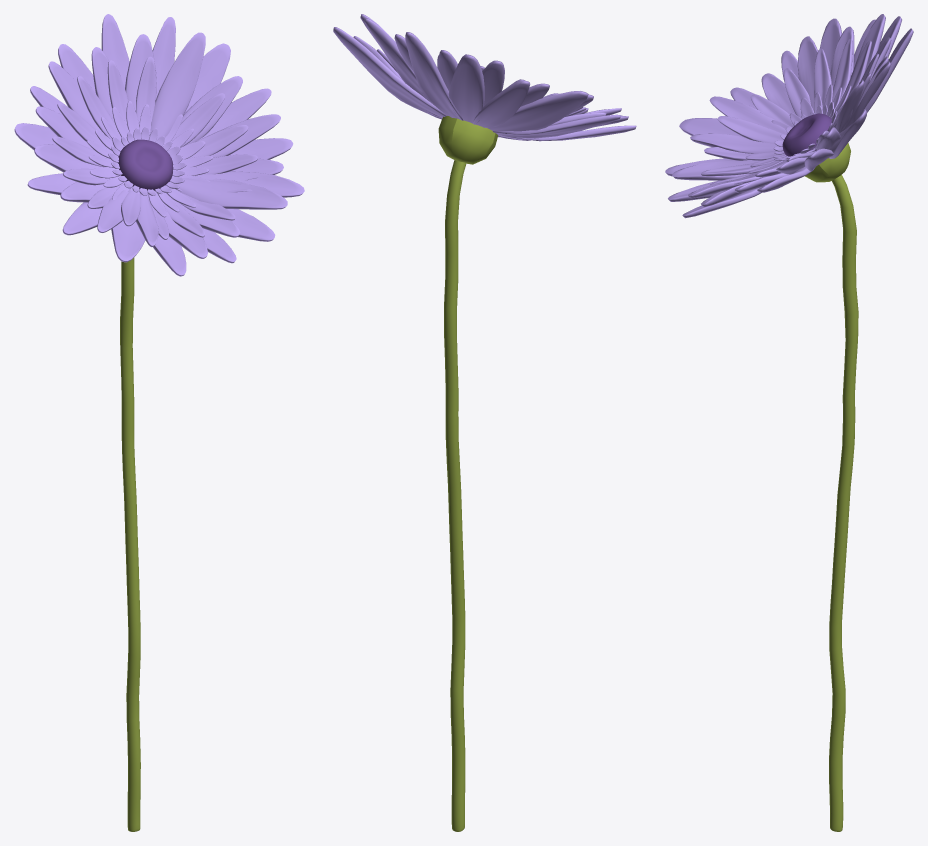
File: Purple_Gerbera_Model.fbx
3 renders of one model, left to right at view 1: azimuth 30°, elevation 25°; view 2: azimuth 150°, elevation 25°; view 3: azimuth 270°, elevation 25°, orthographic. The views are drawn at different scales.
Visible parts, largest first — view 1: Stem, pCube148, pCube155, Inner, pCube171, pCube163, pCube166, pCube175, pCube152, pCube159, pCube150, pCube167 (+30 smaller); view 2: Stem, Outer, pCube171, pCube162, pCube159, pCube169, pCube174, pCube156, pCube175, pCube172, pCube152; view 3: Stem, Inner, pCube146, pCube165, pCube158, pCube151, pCube138, Outer, pCube154, pCube160, pCube139, pCube103 (+13 smaller).
Part boxes in pixels (box(x1,y1,x2,y2)): Stem: box(120, 257, 140, 831); pCube148: box(148, 32, 205, 142); pCube155: box(175, 178, 287, 209); Inner: box(118, 139, 173, 190); pCube171: box(184, 43, 230, 113); pCube163: box(194, 171, 304, 197); pCube166: box(198, 88, 271, 140); pCube175: box(152, 17, 175, 99); pCube152: box(48, 61, 104, 134); pCube159: box(101, 14, 129, 88); pCube150: box(180, 76, 242, 145); pCube167: box(125, 34, 156, 110); Stem: box(444, 160, 466, 831); Outer: box(438, 116, 498, 164); pCube171: box(333, 27, 446, 118); pCube162: box(487, 91, 588, 131); pCube159: box(405, 32, 463, 120); pCube169: box(448, 54, 484, 123); pCube174: box(473, 80, 530, 127); pCube156: box(493, 114, 621, 138); pCube175: box(364, 18, 448, 115); pCube172: box(498, 125, 636, 141); pCube152: box(482, 60, 504, 106); Stem: box(829, 174, 858, 831); Inner: box(782, 113, 831, 156); pCube146: box(690, 133, 778, 153); pCube165: box(709, 96, 786, 134); pCube158: box(797, 36, 817, 110); pCube151: box(672, 159, 763, 180); pCube138: box(717, 116, 783, 143); Outer: box(805, 143, 850, 182); pCube154: box(761, 73, 795, 114); pCube160: box(679, 118, 743, 137); pCube139: box(814, 48, 831, 109); pCube103: box(832, 39, 852, 101).
Bounding box in the file's own units: 1.68 × 4.96 × 1.39.
